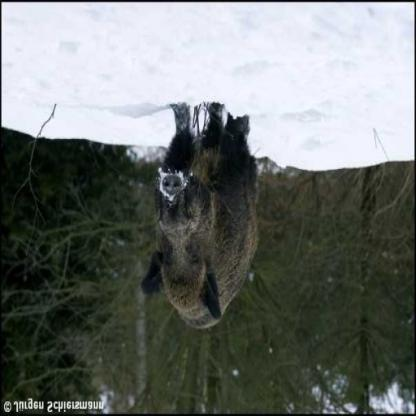boar: (146, 105, 277, 330)
